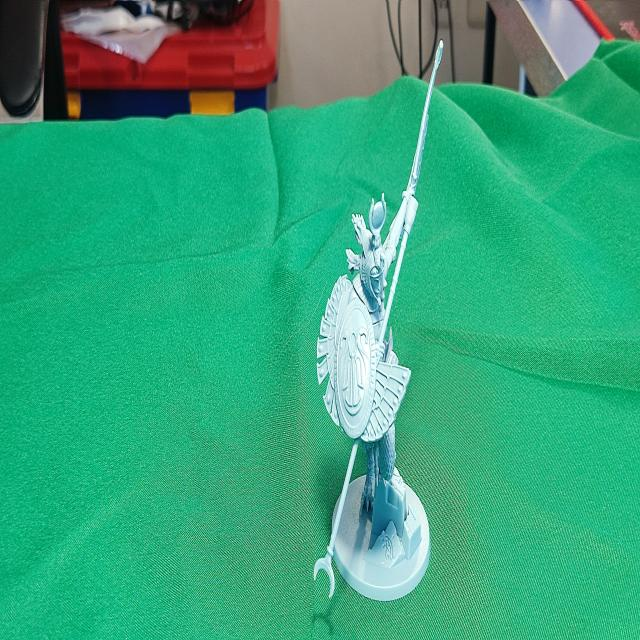isis: (305, 25, 454, 618)
